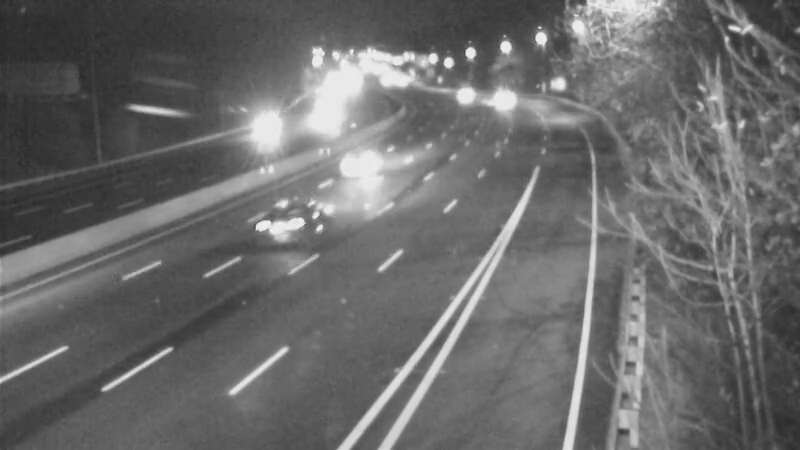vehicle: (329, 120, 409, 200), (235, 179, 315, 259), (479, 76, 529, 126), (429, 66, 479, 116), (226, 110, 276, 160), (297, 95, 347, 145)
